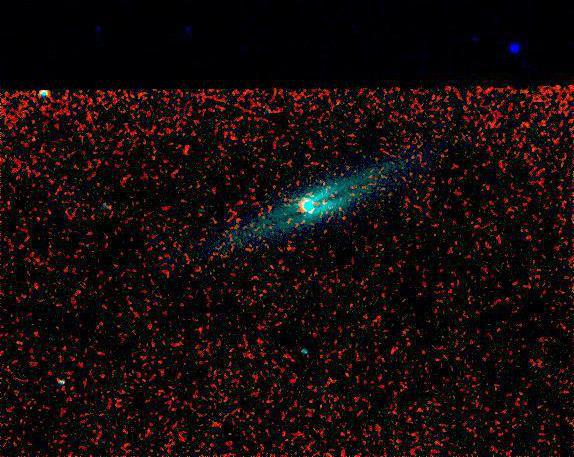star: (175, 134, 205, 164)
